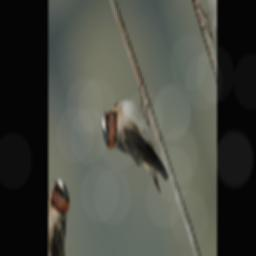Swallow: (95, 61, 173, 236)
